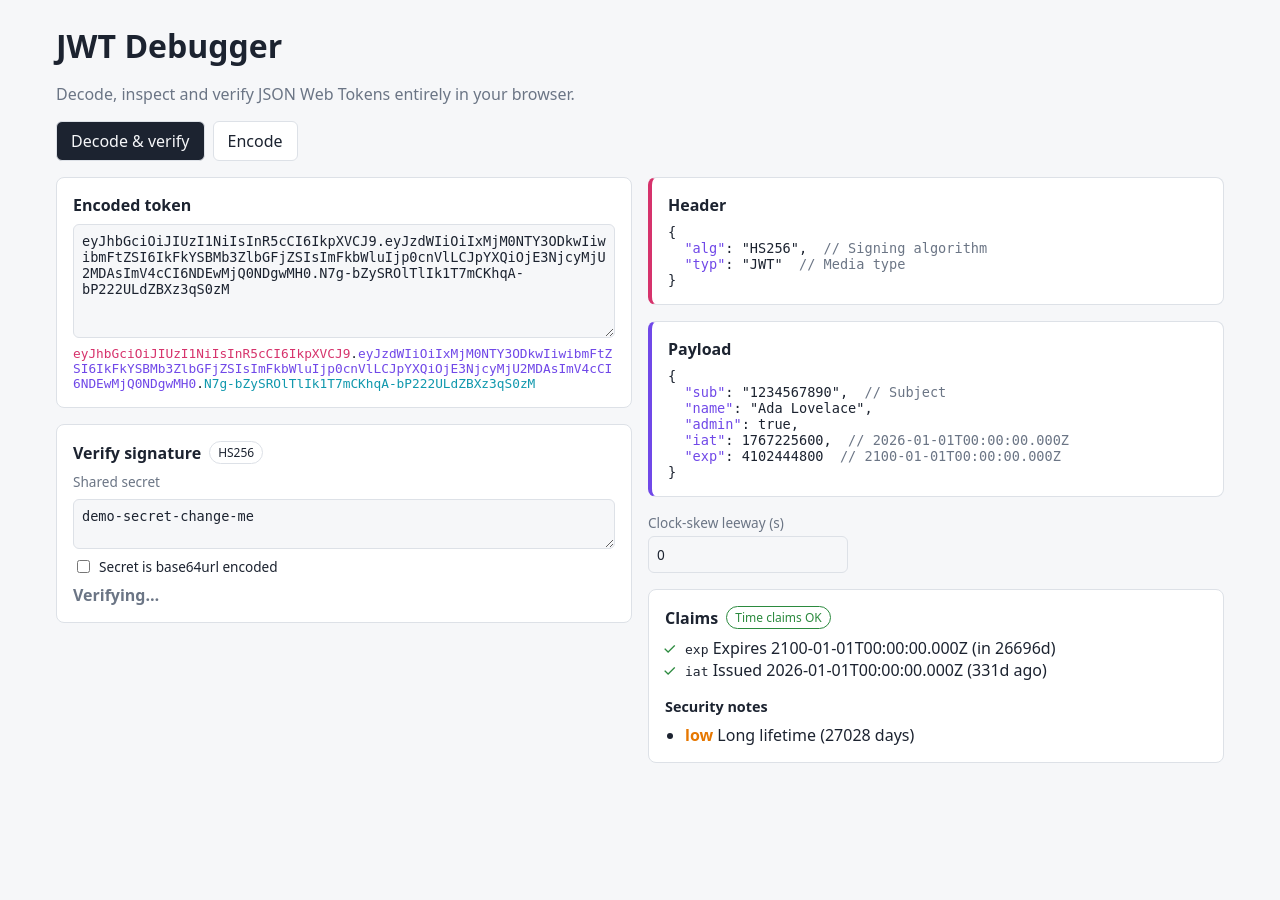
Scenario: <App /> › encodes a token and opens it in the debugger
The width and height of the screenshot is (1280, 900).
Click the tab "Encode" at (255, 141), box [212,121,298,161]
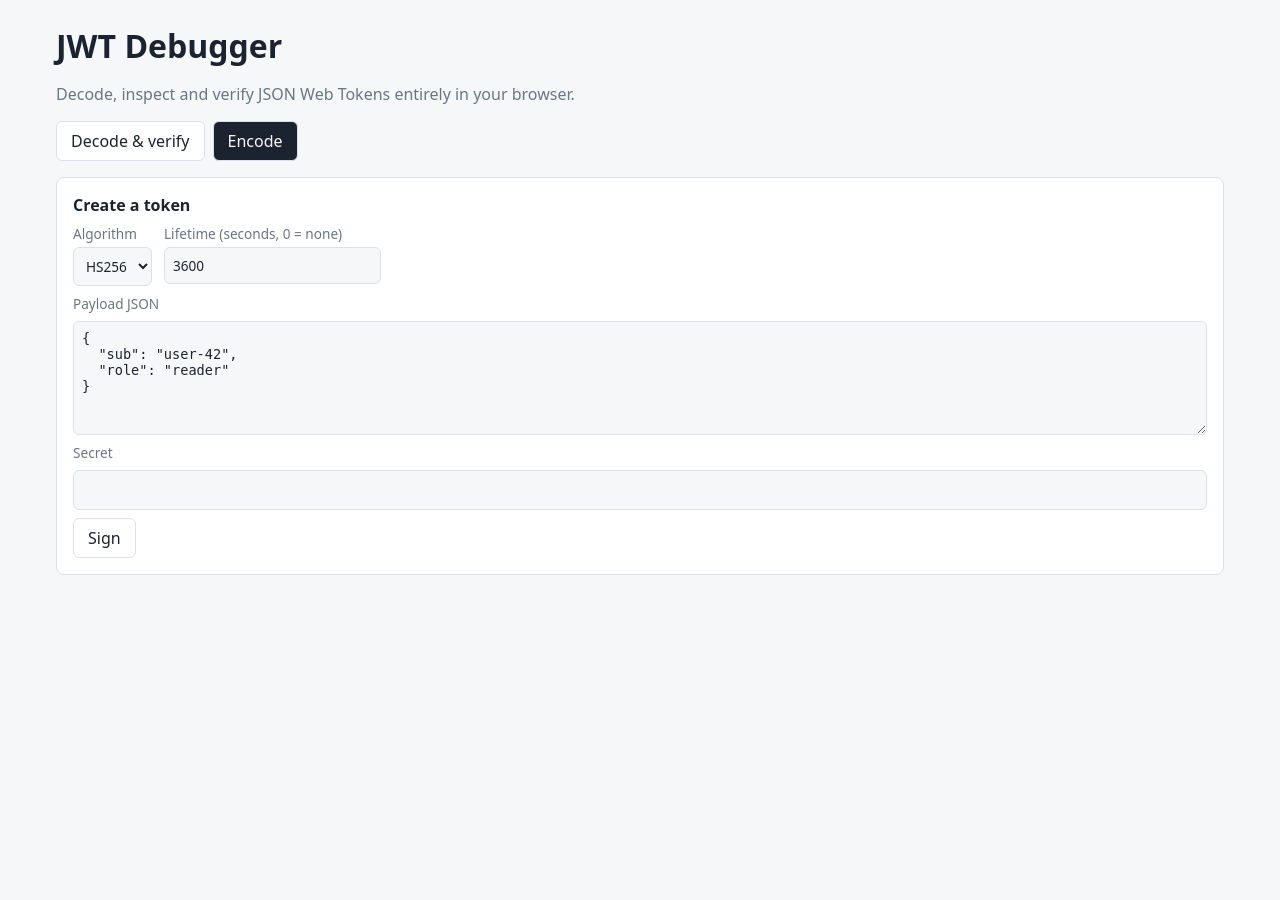
Type "roundtrip" into the field labelled "Secret" at (640, 490), box [73,470,1207,510]
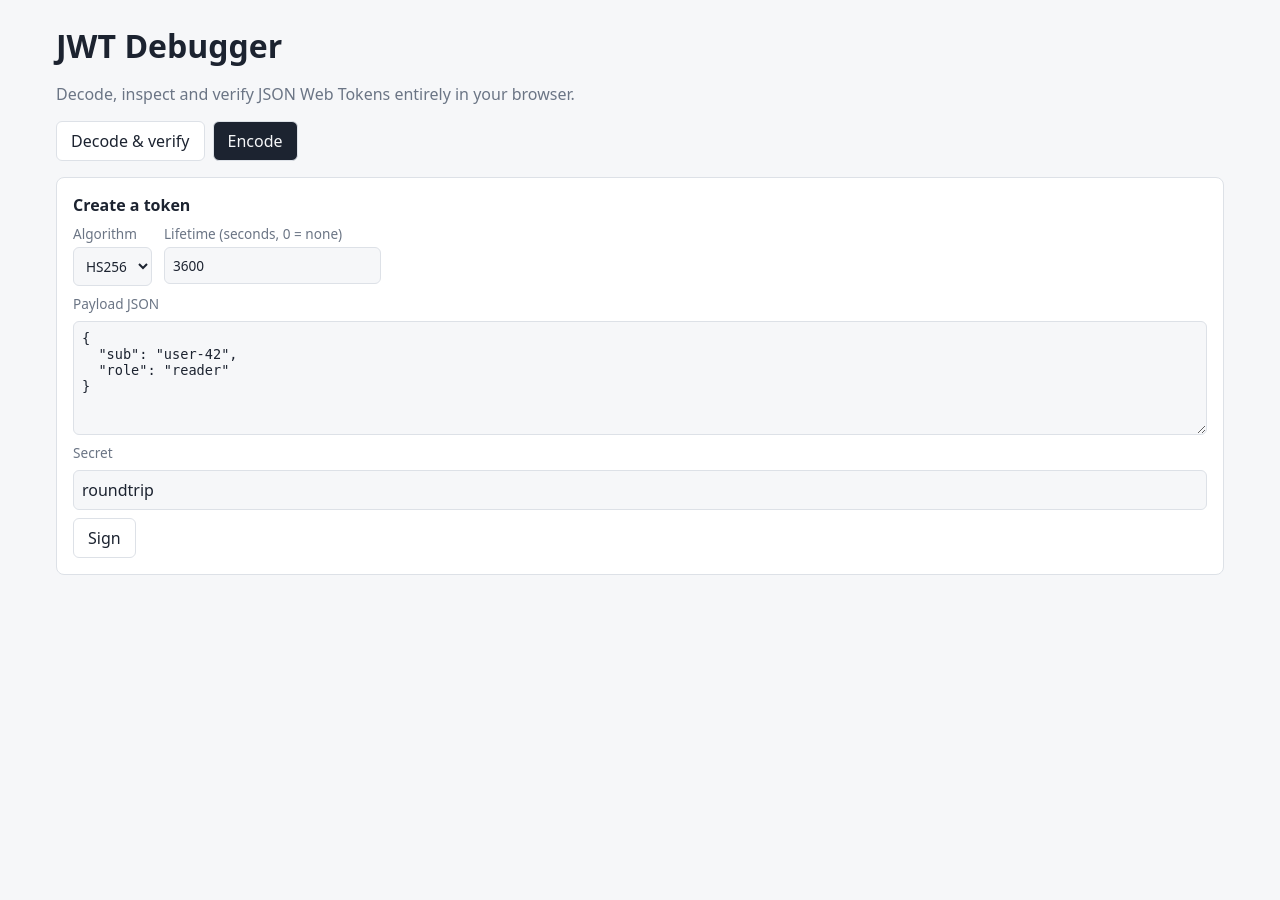
Click the button "Sign" at (104, 538), box [73,518,136,558]
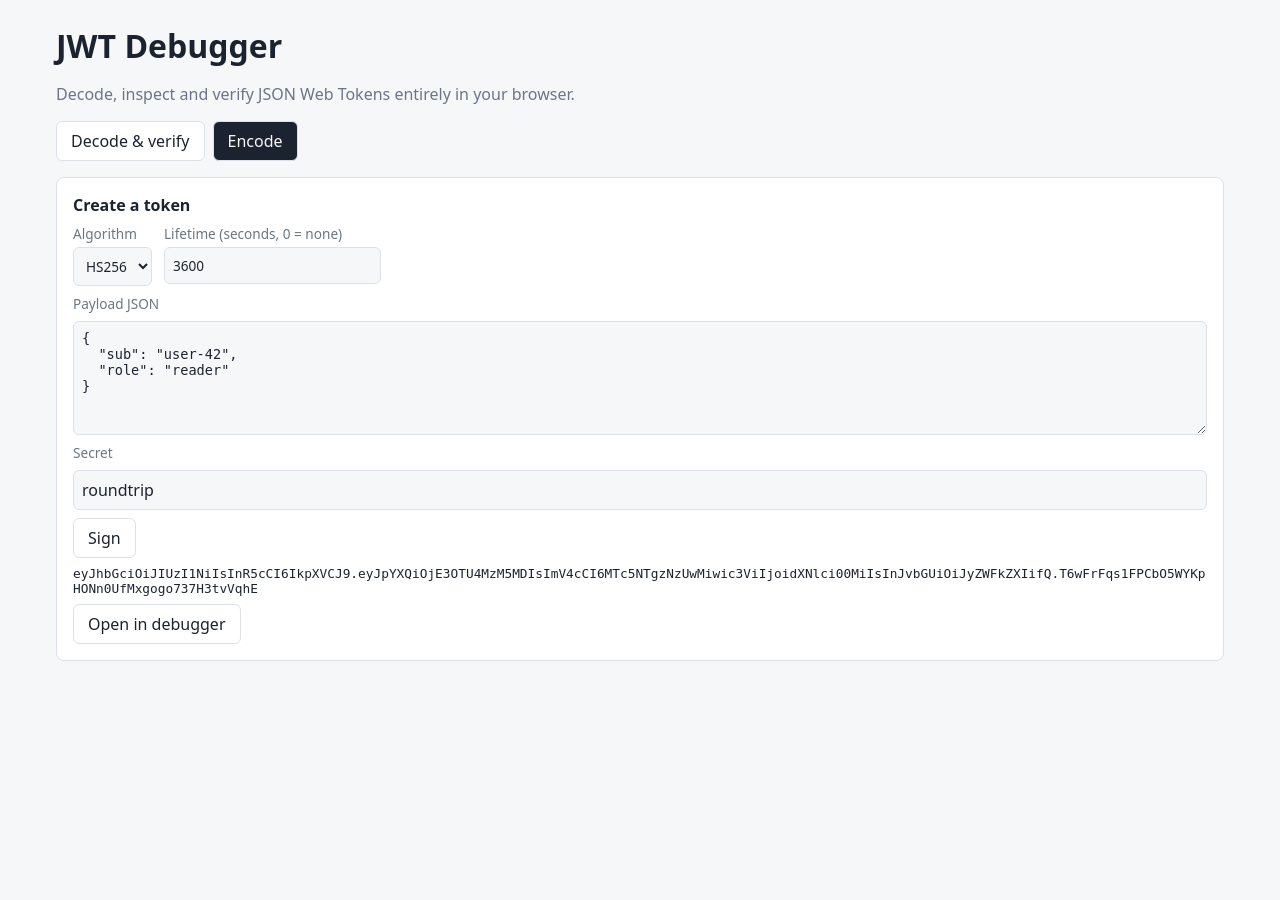
Now the text named "Signed token" is shown, box [73,566,1207,596]
Click the button "Open in debugger" at (157, 624), box [73,604,240,644]
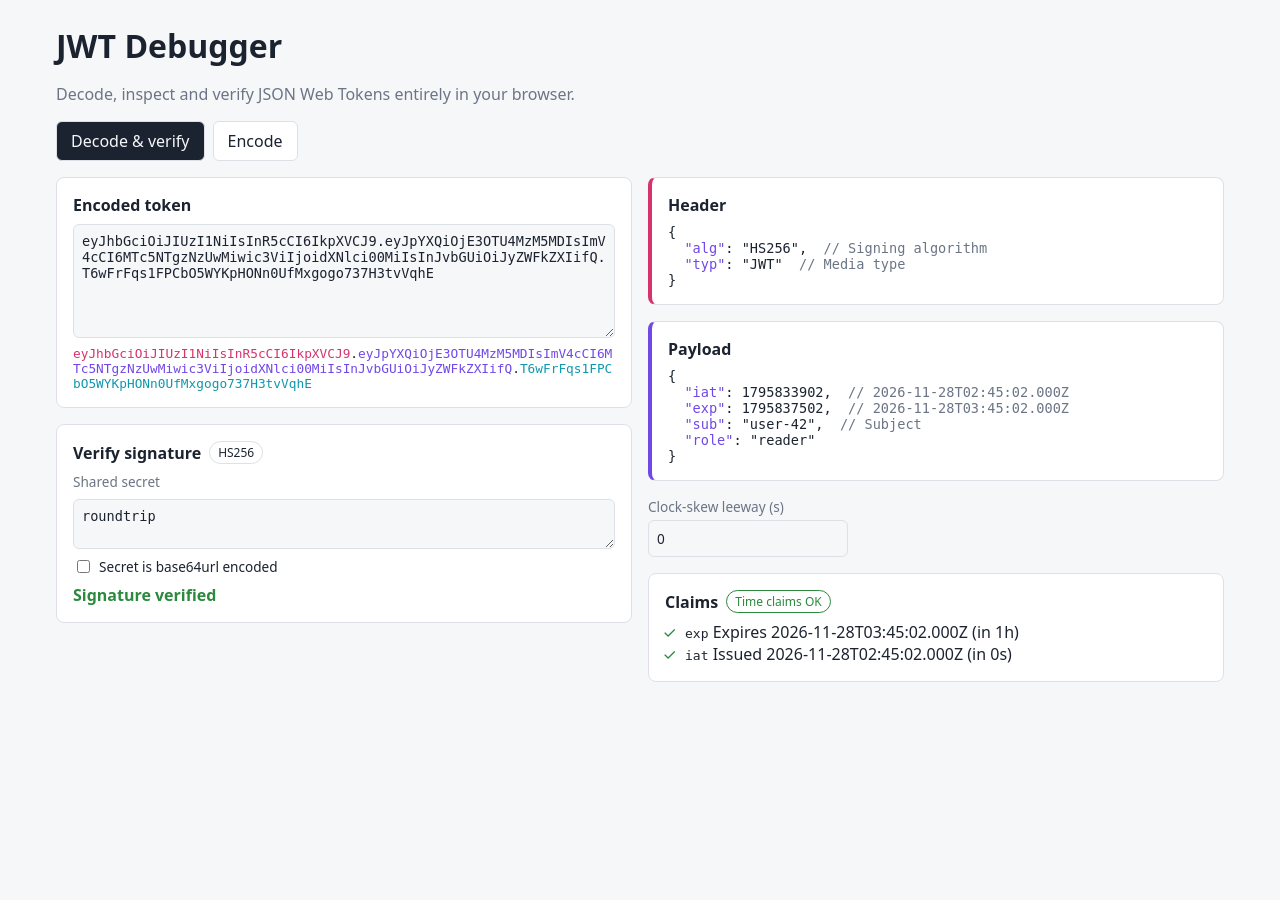
Now the text "\"user-42\"" is shown, box [742,416,815,432]
Now the message reads "Signature verified", box [73,584,216,606]
